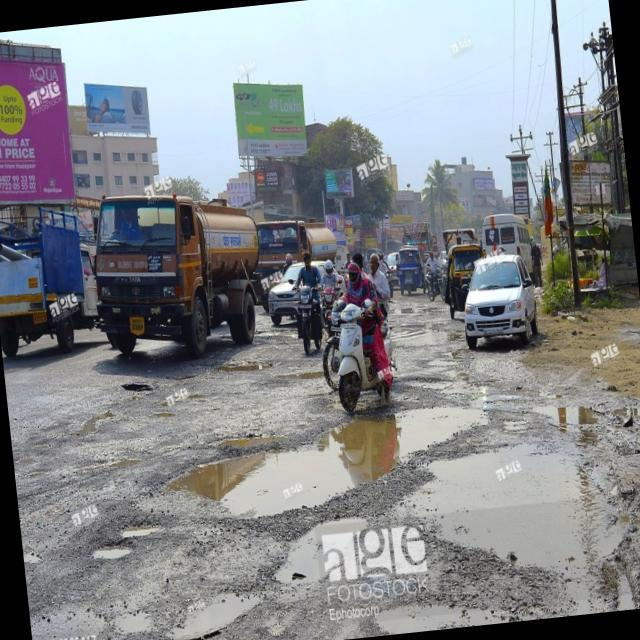Pothole: (154, 376, 506, 528), (385, 402, 640, 604), (265, 489, 446, 605), (350, 573, 528, 638), (163, 562, 281, 640), (66, 400, 130, 449), (79, 531, 143, 569), (120, 372, 167, 406), (212, 357, 274, 382), (123, 512, 171, 540), (176, 383, 227, 404), (112, 454, 149, 480)
